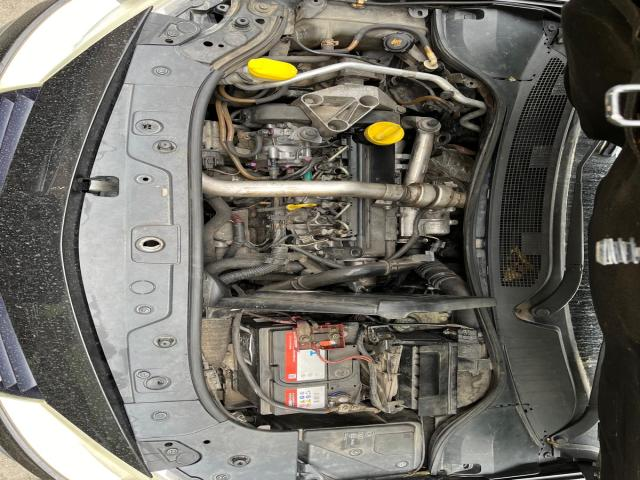accumulator: (235, 315, 378, 415)
alternator: (202, 120, 223, 153)
antifreeze_tank: (295, 0, 428, 52), (355, 28, 418, 53)
fuse_box: (298, 422, 423, 480)
high_pressure_pump: (252, 124, 311, 179)
